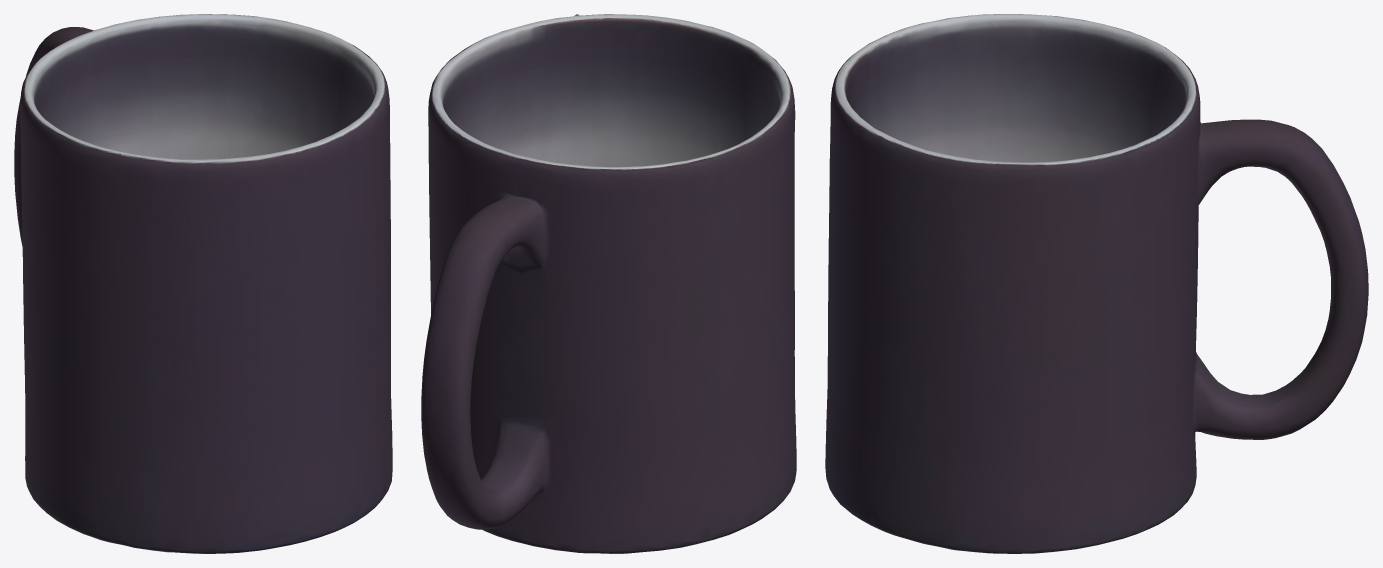
Rendered from cana_termo.glb.
3 views of the same model, side by side, from view 1: azimuth 30°, elevation 25°; view 2: azimuth 150°, elevation 25°; view 3: azimuth 270°, elevation 25° (orthographic).
Visible parts, largest first — view 1: tripo_node_a7711e0b-b891-46f9-8211-ae623de6db75; view 2: tripo_node_a7711e0b-b891-46f9-8211-ae623de6db75; view 3: tripo_node_a7711e0b-b891-46f9-8211-ae623de6db75.
Boxes of the visible parts, x1,y1,x2,y2 form: tripo_node_a7711e0b-b891-46f9-8211-ae623de6db75: (14, 14, 392, 553); tripo_node_a7711e0b-b891-46f9-8211-ae623de6db75: (421, 14, 796, 553); tripo_node_a7711e0b-b891-46f9-8211-ae623de6db75: (825, 14, 1368, 553).
Size of the model in its own units: 0.6797 by 0.8027 by 1.
1 material, 1 textured.
